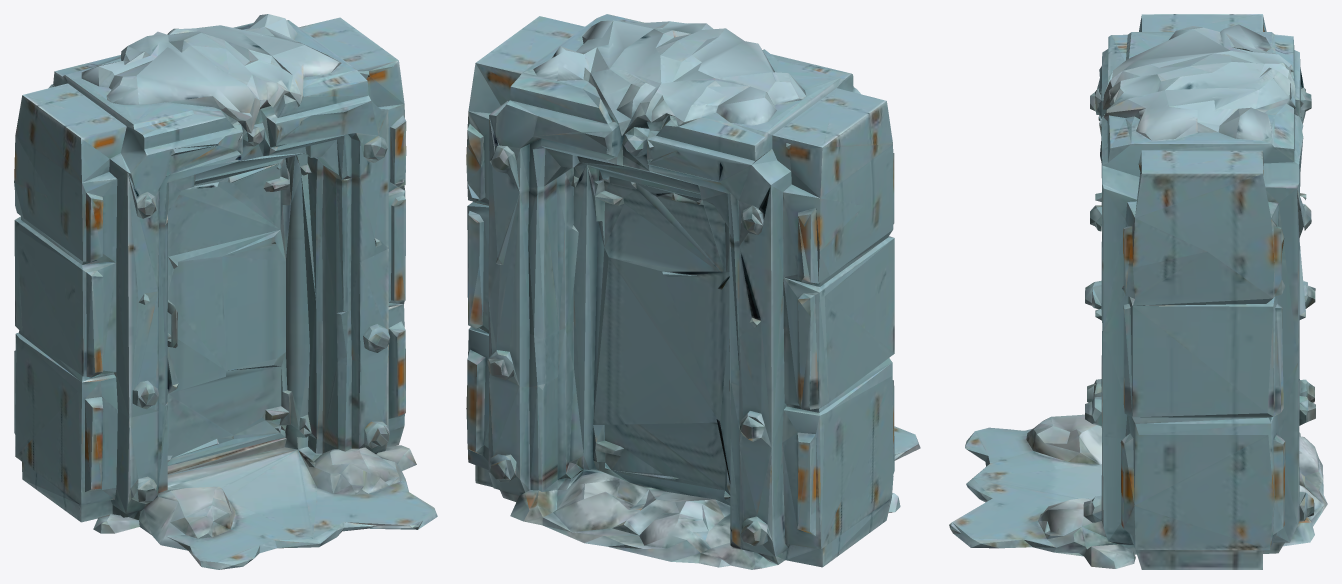
Rendered from door_snow.glb.
3 renders of one model, left to right at view 1: azimuth 30°, elevation 25°; view 2: azimuth 150°, elevation 25°; view 3: azimuth 270°, elevation 25°, orthographic. The views are drawn at different scales.
Size of the model in its own units: 1.55 by 1.9 by 1.51.
1 material, 1 textured.
